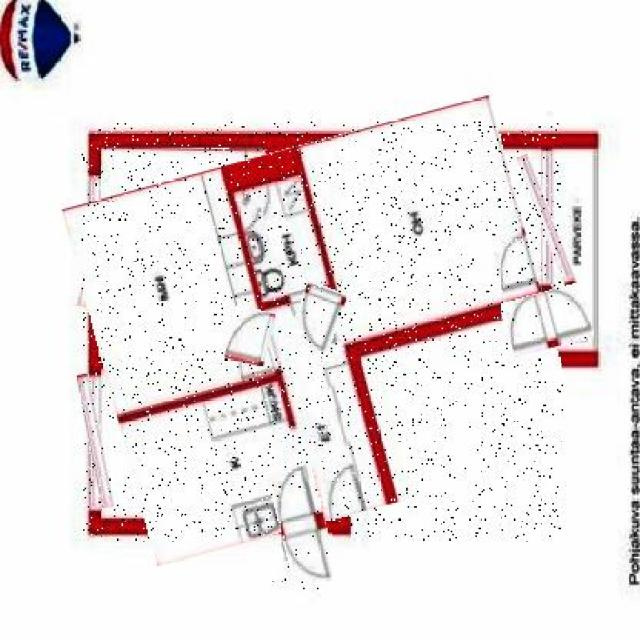door: (272, 468, 332, 590), (503, 288, 591, 352), (290, 284, 342, 354), (228, 308, 274, 364)
window: (529, 152, 566, 288), (83, 174, 109, 309), (83, 374, 108, 509)
zone: (82, 121, 563, 542), (100, 148, 268, 358), (266, 172, 346, 292)
